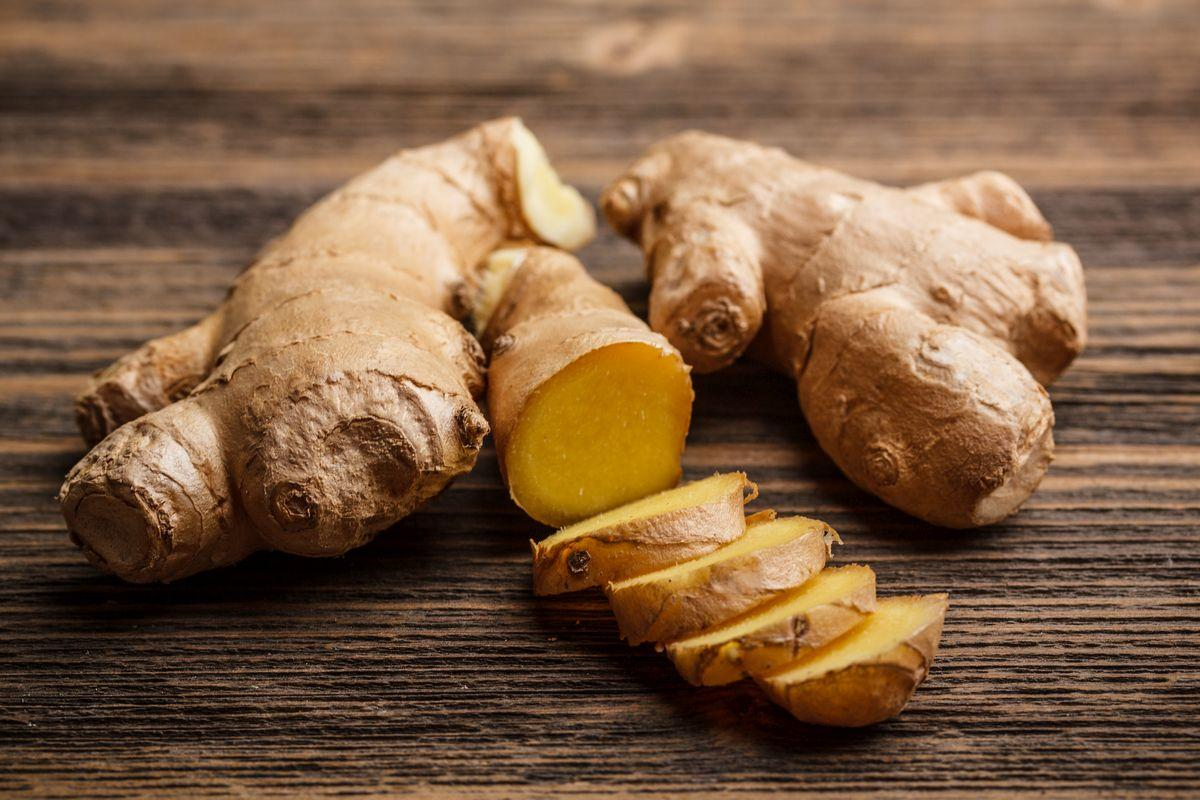ginger: (58, 112, 1088, 728), (57, 113, 595, 584), (598, 126, 1088, 529), (529, 468, 950, 728), (468, 240, 695, 529), (603, 509, 844, 648), (528, 468, 760, 596), (747, 589, 950, 728), (664, 560, 877, 688)
